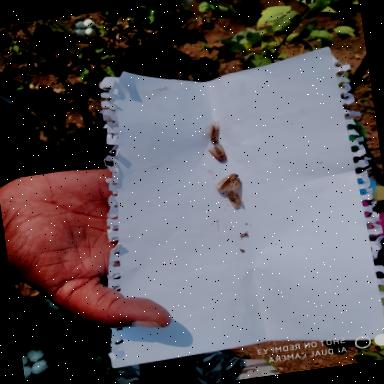abw: (212, 169, 243, 193), (205, 141, 231, 165), (200, 120, 225, 144), (225, 188, 244, 211)
